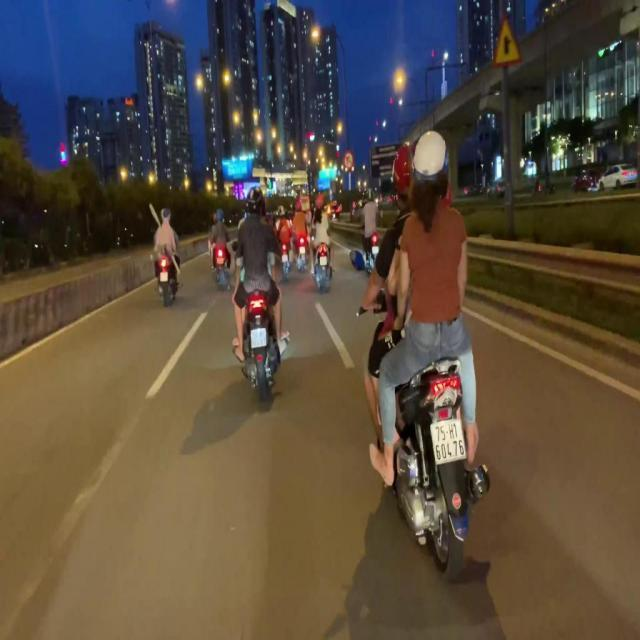123b-cam-re-phai: (342, 150, 354, 168)
207-giao-nhau-voi-duong-khong-uu-tien: (491, 14, 521, 70)
407a-duong-mot-chieu: (345, 172, 355, 190)
